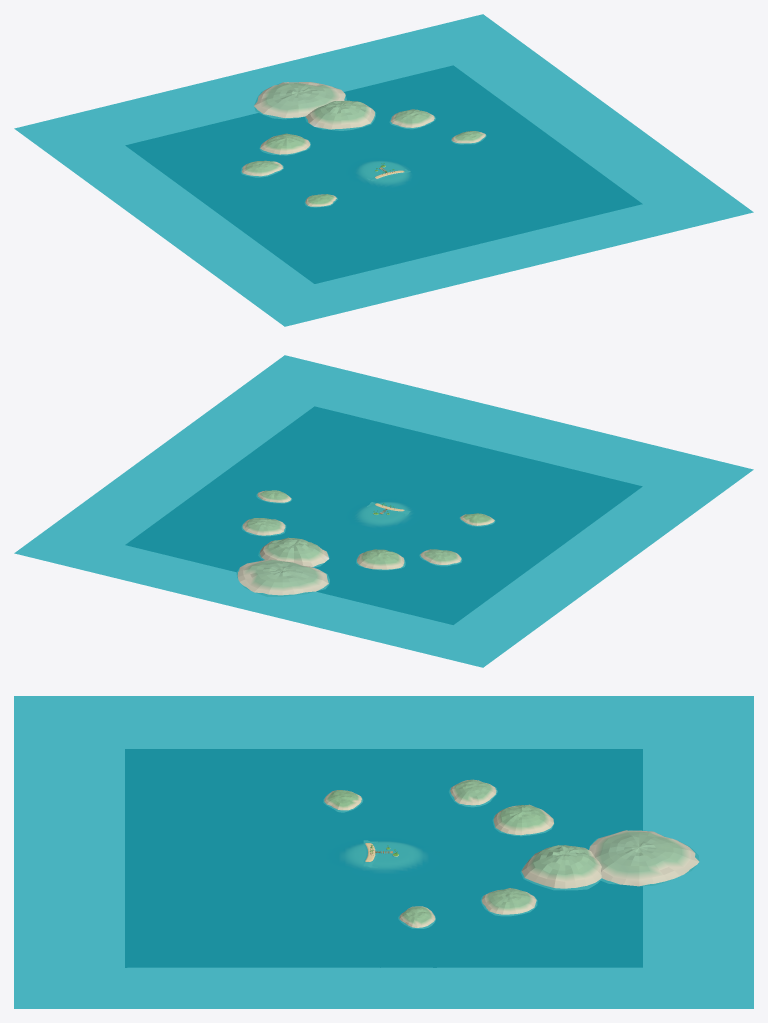
Rendered from ortam_uclu_kopru.glb.
The picture shows the model from 3 angles, top to bottom: view 1: azimuth 30°, elevation 25°; view 2: azimuth 150°, elevation 25°; view 3: azimuth 270°, elevation 25°; orthographic projection. The views are drawn at different scales.
Parts seen in each view (by area): view 1: Lagun_Su, Deniz_Tabani, Uzak_Ada_6, Uzak_Ada_1, Uzak_Ada_0, Uzak_Ada_2, Uzak_Ada_3; view 2: Lagun_Su, Deniz_Tabani, Uzak_Ada_6, Uzak_Ada_1, Uzak_Ada_0, Uzak_Ada_2, Uzak_Ada_3; view 3: Lagun_Su, Deniz_Tabani, Uzak_Ada_6, Uzak_Ada_1, Uzak_Ada_0, Uzak_Ada_2, Uzak_Ada_3, Uzak_Ada_4, Uzak_Ada_5.
Part boxes in pixels (x1,y1,x2,y2): Lagun_Su: (14,14,753,326); Deniz_Tabani: (126,66,641,283); Uzak_Ada_6: (254,82,346,118); Uzak_Ada_1: (305,100,375,130); Uzak_Ada_0: (260,133,310,154); Uzak_Ada_2: (390,109,435,128); Uzak_Ada_3: (241,160,283,176); Lagun_Su: (14,355,753,667); Deniz_Tabani: (126,407,641,624); Uzak_Ada_6: (237,559,329,596); Uzak_Ada_1: (258,537,329,566); Uzak_Ada_0: (356,549,404,569); Uzak_Ada_2: (242,518,285,535); Uzak_Ada_3: (420,549,461,565); Lagun_Su: (14,696,753,1008); Deniz_Tabani: (125,749,642,967); Uzak_Ada_6: (589,830,699,886); Uzak_Ada_1: (521,845,601,889); Uzak_Ada_0: (493,804,553,835); Uzak_Ada_2: (481,888,536,915); Uzak_Ada_3: (449,779,497,806); Uzak_Ada_4: (398,906,435,928); Uzak_Ada_5: (323,790,362,811).
Size of the model in its own units: 1200 by 38.53 by 1200.
